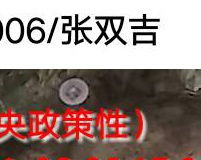text: (54, 76, 98, 111)
